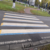zebra: (1, 12, 50, 34)
